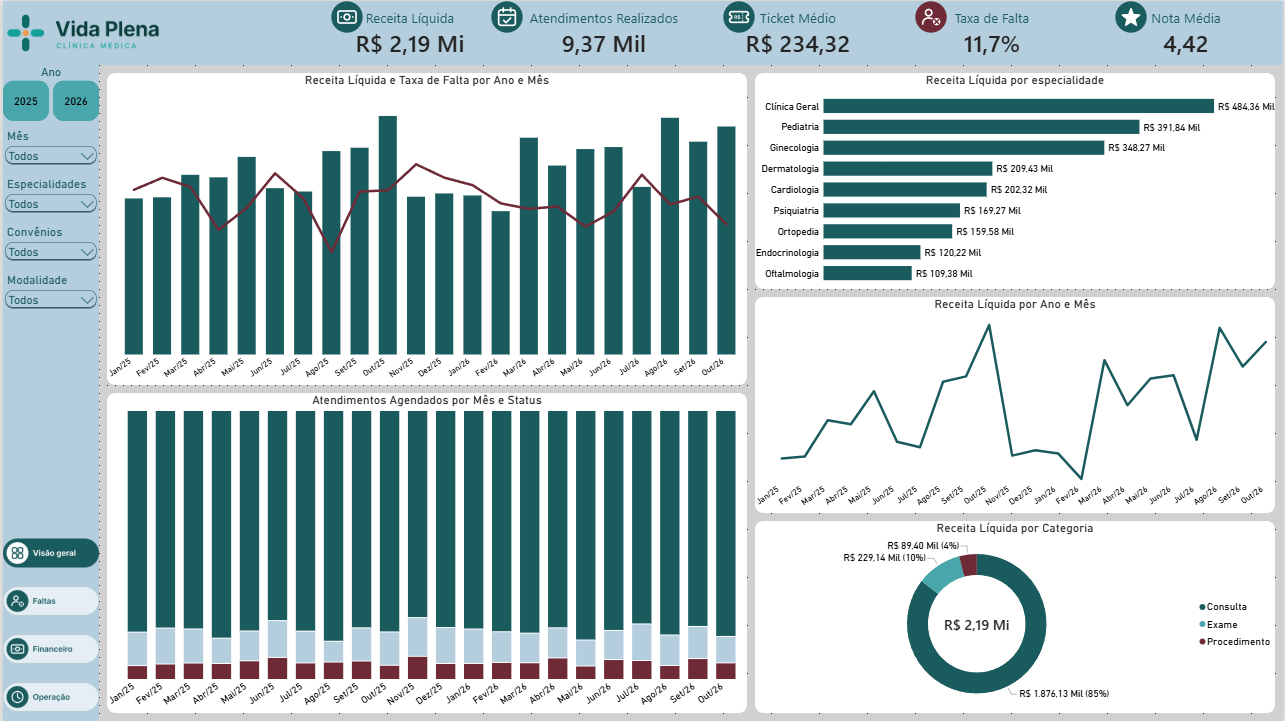

Layout of this report page (visuals, bound fields, positions):
{"tool":"powerbi","page":{"name":"Visão geral","canvas":[2560,1440],"ordinal":0},"visuals":[{"type":"shape","box":[1504,1040,1040,384],"z":0},{"type":"shape","box":[1504,592,1040,432],"z":1000},{"type":"shape","box":[1504,144,1040,432],"z":2000},{"type":"shape","box":[0,-176,192,1616],"z":3000},{"type":"shape","box":[208,144,1280,624],"z":4000},{"type":"shape","box":[0,0,2560,128],"z":5000},{"type":"image","box":[0,0,320,128],"z":6000},{"type":"cardVisual","fields":{"Data":["Medidas.Receita Líquida","Medidas.Atendimentos Realizados","Medidas.Ticket Médio","Medidas.Taxa de Falta","Medidas.Nota Média"]},"box":[624,16,1936,96],"z":7000},{"type":"shape","box":[208,784,1280,640],"z":8000},{"type":"lineChart","title":"Receita Líquida por Ano e Mês","fields":{"Category":["dim_calendario.Mês/Ano"],"Y":["Medidas.Receita Líquida"]},"box":[1504,592,1040,432],"z":9000},{"type":"barChart","fields":{"Category":["dim_medicos.especialidade"],"Y":["Medidas.Receita Líquida"]},"box":[1504,144,1040,432],"z":10000},{"type":"hundredPercentStackedColumnChart","title":"Atendimentos Agendados por Mês e Status","fields":{"Category":["dim_calendario.Mês/Ano"],"Series":["fato_atendimentos.status"],"Y":["Medidas.Atendimentos Agendados"]},"box":[208,784,1280,640],"z":11000},{"type":"donutChart","title":"Receita Líquida por Categoria","fields":{"Category":["dim_procedimentos.categoria"],"Y":["Medidas.Receita Líquida"]},"box":[1504,1040,1040,384],"z":12000},{"type":"lineStackedColumnComboChart","title":"Receita Líquida e Taxa de Falta por Ano e Mês","fields":{"Category":["dim_calendario.Mês/Ano"],"Y":["Medidas.Receita Líquida"],"Y2":["Medidas.Taxa de Falta"]},"box":[208,144,1280,624],"z":13001},{"type":"slicer","fields":{"Values":["dim_medicos.especialidade"]},"box":[0,352,192,96],"z":13002},{"type":"image","box":[1424,0,96,64],"z":13003},{"type":"image","box":[640,0,96,64],"z":13004},{"type":"image","box":[2208,0,96,64],"z":13005},{"type":"image","box":[960,0,96,64],"z":13006},{"type":"image","box":[1808,0,96,64],"z":13007},{"type":"slicer","fields":{"Values":["dim_convenios.convenio"]},"box":[0,448,192,96],"z":13008},{"type":"slicer","fields":{"Values":["fato_atendimentos.modalidade"]},"box":[0,544,192,96],"z":13009},{"type":"advancedSlicerVisual","title":"Ano","fields":{"Values":["dim_calendario.ano"]},"box":[0,128,192,112],"z":13010},{"type":"slicer","fields":{"Values":["dim_calendario.mes_nome"]},"box":[0,256,192,96],"z":13011},{"type":"actionButton","box":[0,1072,192,64],"z":13012},{"type":"actionButton","box":[0,1168,192,64],"z":13013},{"type":"actionButton","box":[0,1264,192,64],"z":13014},{"type":"actionButton","box":[0,1360,192,64],"z":13015}]}

Visuals, with their boxes in screenshot pixels (x1, y1, x2, y2), scaled from the page's 2560x1440 canvas onto the 1285x721 screenshot:
shape: [x1=755, y1=521, x2=1277, y2=713]
shape: [x1=755, y1=296, x2=1277, y2=513]
shape: [x1=755, y1=72, x2=1277, y2=288]
shape: [x1=0, y1=0, x2=96, y2=720]
shape: [x1=104, y1=72, x2=747, y2=385]
shape: [x1=0, y1=0, x2=1284, y2=64]
image: [x1=0, y1=0, x2=161, y2=64]
cardVisual - Medidas.Receita Líquida x Medidas.Atendimentos Realizados: [x1=313, y1=8, x2=1284, y2=56]
shape: [x1=104, y1=393, x2=747, y2=713]
"Receita Líquida por Ano e Mês" lineChart: [x1=755, y1=296, x2=1277, y2=513]
barChart - dim_medicos.especialidade x Medidas.Receita Líquida: [x1=755, y1=72, x2=1277, y2=288]
"Atendimentos Agendados por Mês e Status" hundredPercentStackedColumnChart: [x1=104, y1=393, x2=747, y2=713]
"Receita Líquida por Categoria" donutChart: [x1=755, y1=521, x2=1277, y2=713]
"Receita Líquida e Taxa de Falta por Ano e Mês" lineStackedColumnComboChart: [x1=104, y1=72, x2=747, y2=385]
slicer - dim_medicos.especialidade: [x1=0, y1=176, x2=96, y2=224]
image: [x1=715, y1=0, x2=763, y2=32]
image: [x1=321, y1=0, x2=369, y2=32]
image: [x1=1108, y1=0, x2=1156, y2=32]
image: [x1=482, y1=0, x2=530, y2=32]
image: [x1=908, y1=0, x2=956, y2=32]
slicer - dim_convenios.convenio: [x1=0, y1=224, x2=96, y2=272]
slicer - fato_atendimentos.modalidade: [x1=0, y1=272, x2=96, y2=320]
"Ano" advancedSlicerVisual: [x1=0, y1=64, x2=96, y2=120]
slicer - dim_calendario.mes_nome: [x1=0, y1=128, x2=96, y2=176]
actionButton: [x1=0, y1=537, x2=96, y2=569]
actionButton: [x1=0, y1=585, x2=96, y2=617]
actionButton: [x1=0, y1=633, x2=96, y2=665]
actionButton: [x1=0, y1=681, x2=96, y2=713]
